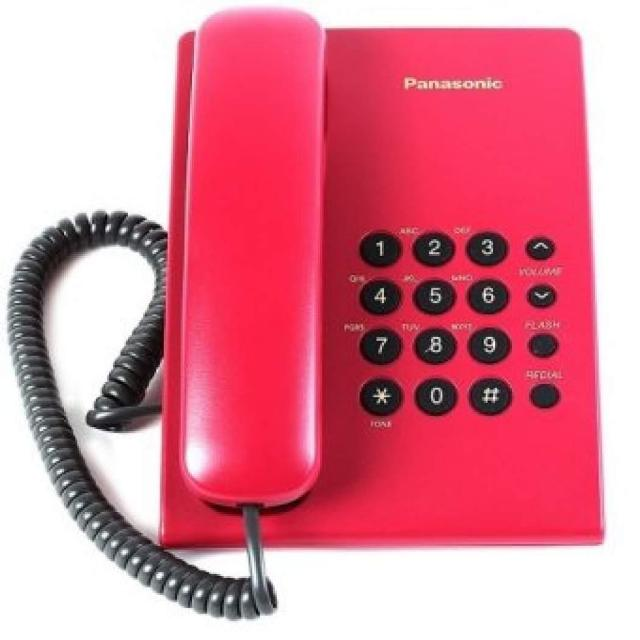Telephone-Set: (84, 0, 630, 640)
